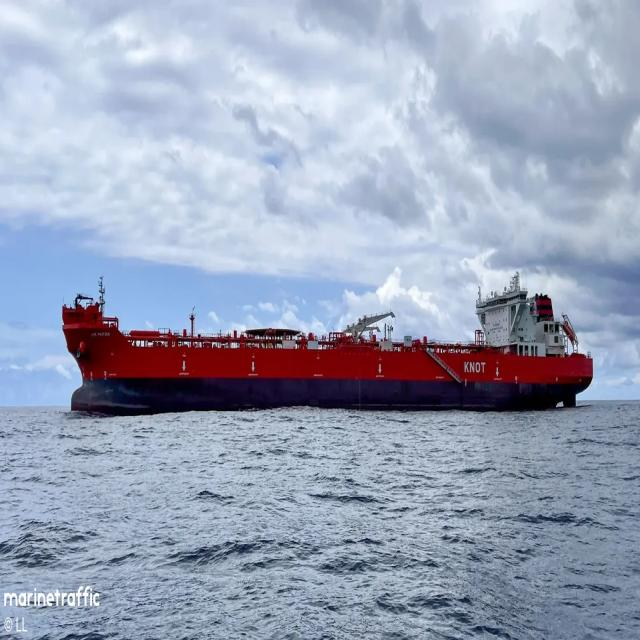Tanker: (62, 274, 593, 415)
